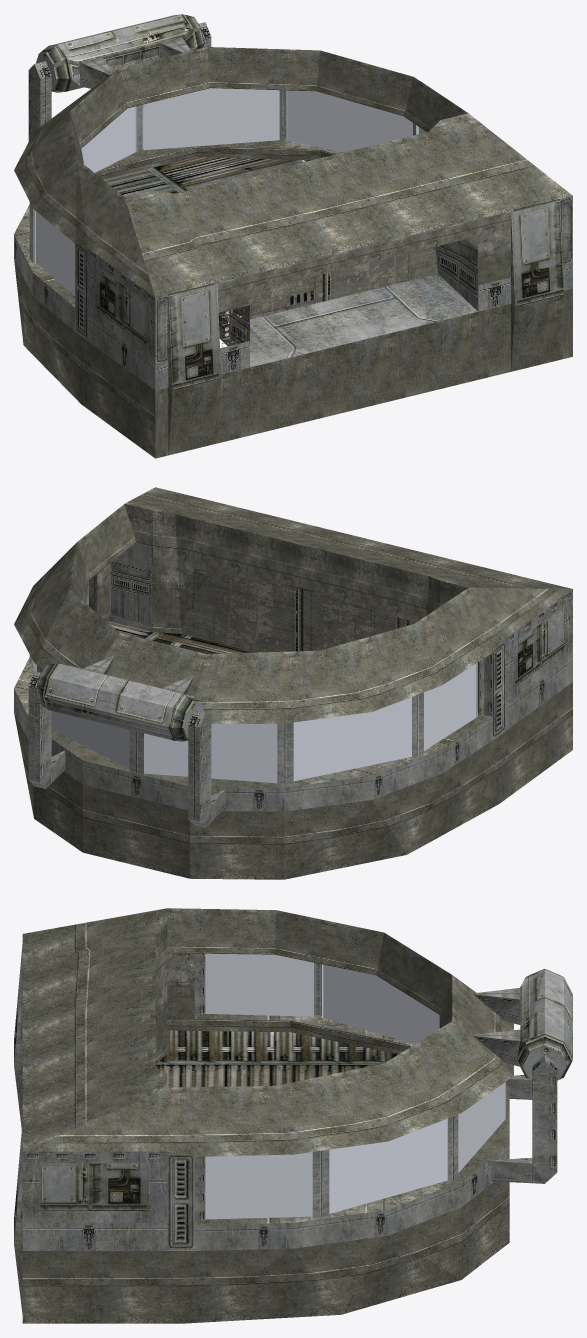
Rendered from ins_all_craftable_creature_farm_s01_u0_l1.fbx.
The picture shows the model from 3 angles, top to bottom: view 1: azimuth 30°, elevation 25°; view 2: azimuth 150°, elevation 25°; view 3: azimuth 270°, elevation 25°; orthographic projection. The views are drawn at different scales.
Parts seen in each view (by area): view 1: mesh_node; view 2: mesh_node; view 3: mesh_node.
Boxes of the visible parts, x1=… form: mesh_node: x1=14, y1=14, x2=572, y2=458; mesh_node: x1=14, y1=487, x2=572, y2=879; mesh_node: x1=14, y1=908, x2=572, y2=1323.
Size of the model in its own units: 14 by 6.5 by 15.18.
